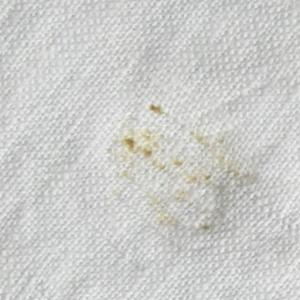Oil Stain: (106, 99, 258, 236)
